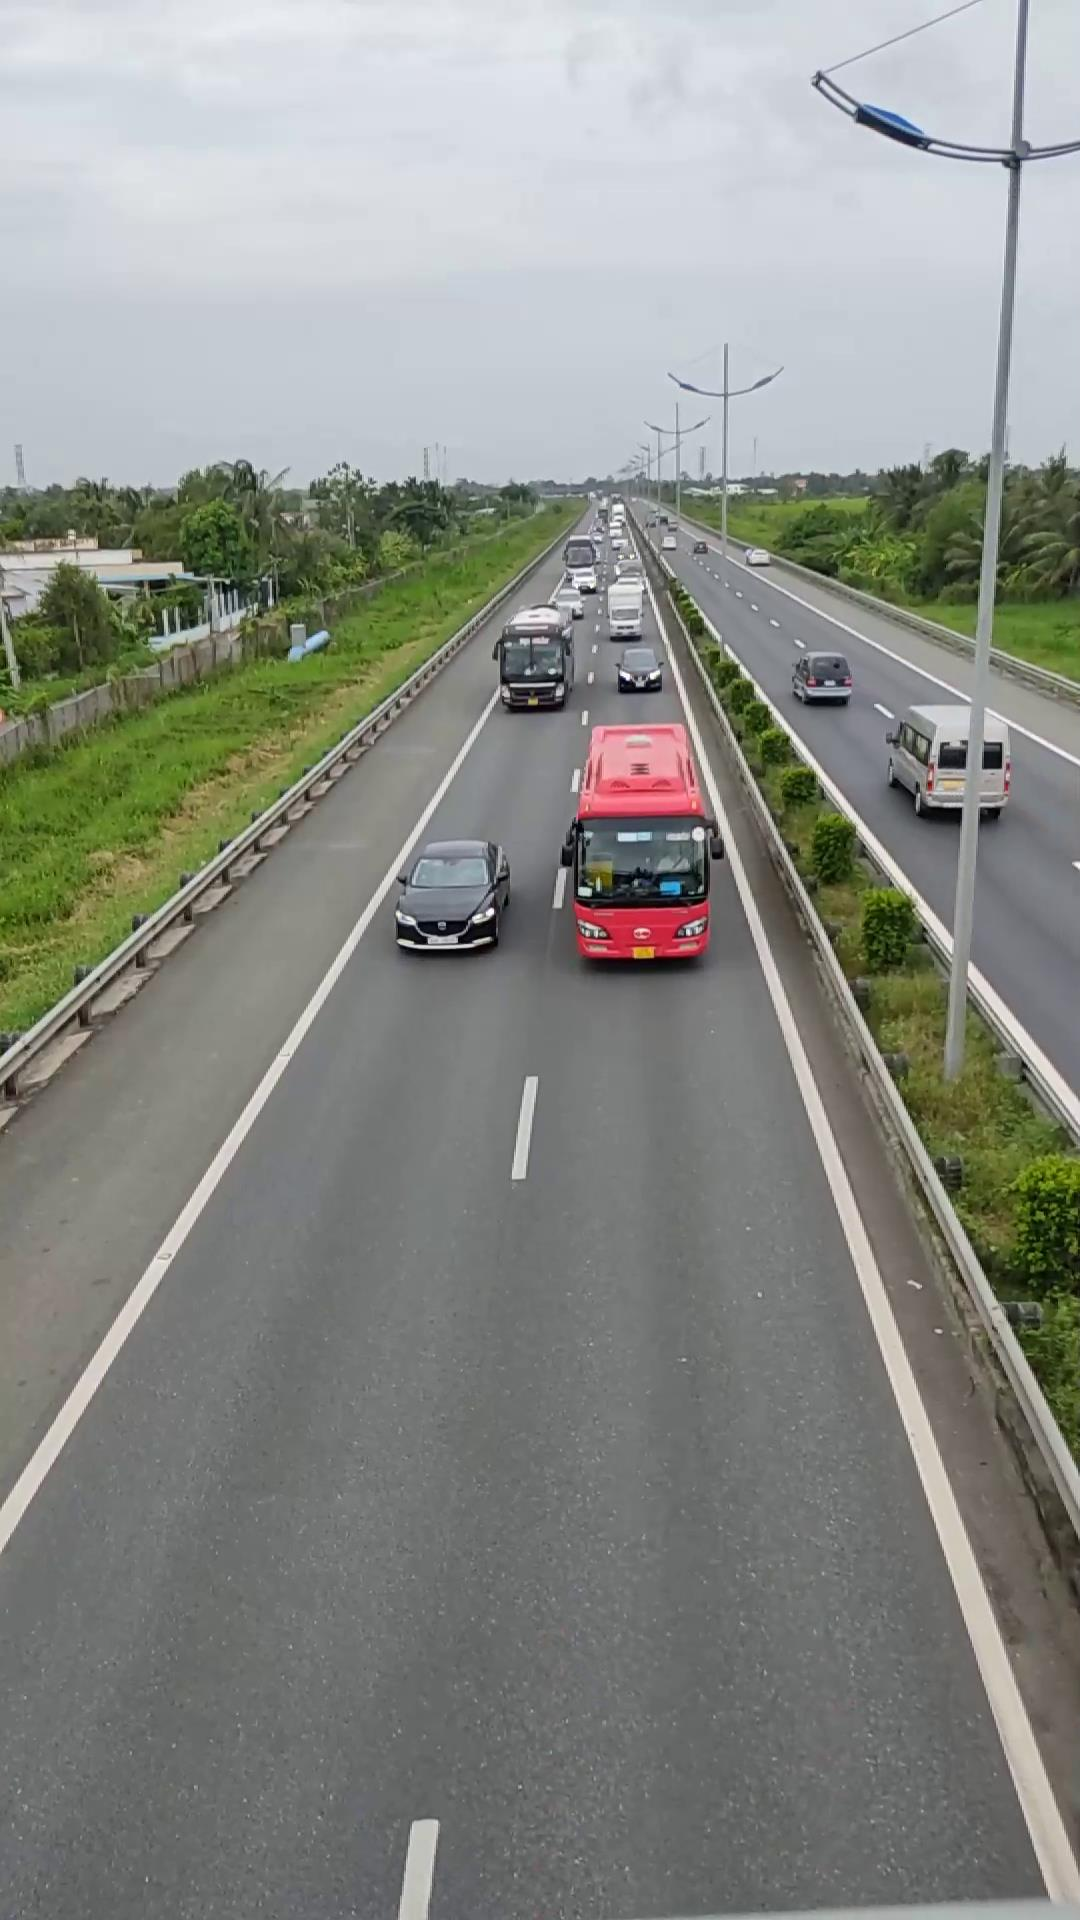bus: (556, 720, 717, 965), (495, 605, 572, 709)
car: (884, 698, 1011, 819), (392, 836, 512, 952)
